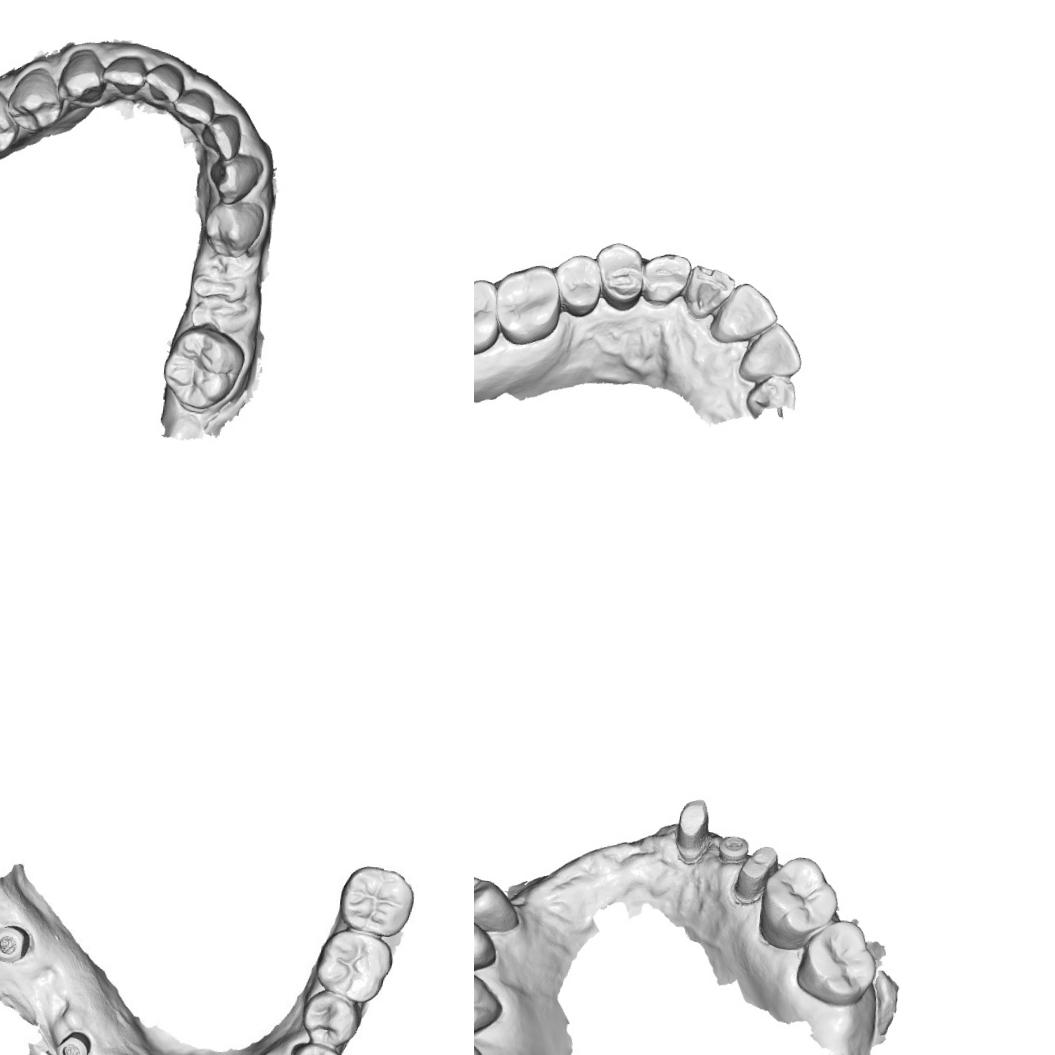canine: (205, 148, 269, 210), (639, 249, 697, 311), (54, 46, 111, 109)
crown: (728, 840, 780, 910), (670, 794, 716, 866)
implant: (0, 918, 32, 968), (50, 1019, 93, 1055), (714, 832, 750, 868)
incisor: (710, 278, 784, 348), (737, 316, 807, 386), (679, 261, 740, 326), (99, 49, 150, 100), (196, 110, 244, 164), (139, 59, 189, 109), (170, 85, 218, 133)
molar: (754, 851, 844, 955), (792, 914, 882, 1012), (158, 320, 248, 414), (488, 259, 568, 350), (312, 926, 392, 1004), (337, 859, 418, 936), (474, 958, 507, 1044), (474, 274, 505, 361)
premolar: (588, 238, 650, 313), (4, 63, 68, 134), (199, 196, 266, 260), (549, 249, 607, 322), (474, 871, 524, 935), (302, 994, 360, 1048), (0, 86, 24, 160), (474, 912, 501, 976), (291, 1038, 350, 1055)
